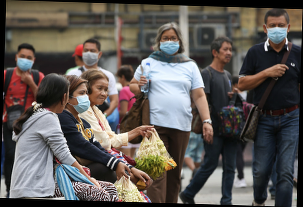with_mask: (266, 20, 288, 47), (72, 88, 91, 116), (160, 34, 182, 56), (16, 54, 35, 73), (82, 47, 100, 67)
without_mask: (89, 84, 110, 106), (216, 45, 234, 64)
